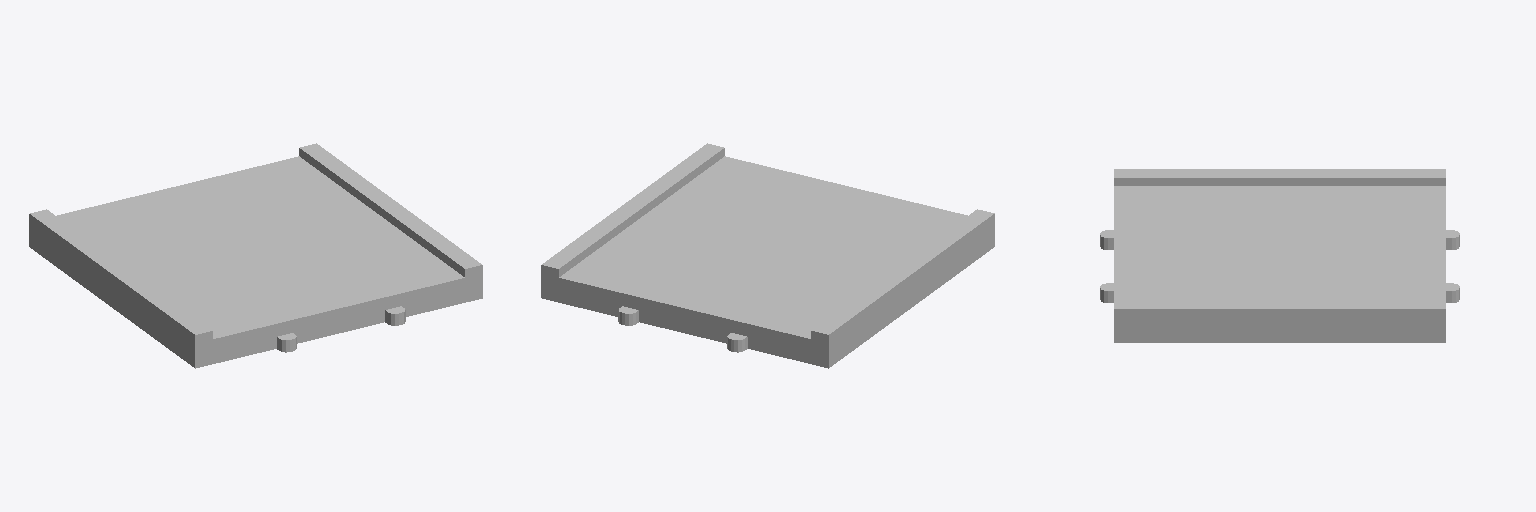
Rendered from Medium_base_Collider.obj.
3 renders of one model, left to right at view 1: azimuth 30°, elevation 25°; view 2: azimuth 150°, elevation 25°; view 3: azimuth 270°, elevation 25°, orthographic.
Parts seen in each view (by area): view 1: Cylinder.161_Cylinder.000, Cylinder.163_Cylinder.000; view 2: Cylinder.161_Cylinder.000, Cylinder.162_Cylinder.000; view 3: Cylinder.161_Cylinder.000, Cylinder.162_Cylinder.000, Cylinder.163_Cylinder.000.
Part boxes in pixels (x1,y1,x2,y2): Cylinder.161_Cylinder.000: (29, 143, 482, 368); Cylinder.163_Cylinder.000: (277, 306, 405, 352); Cylinder.161_Cylinder.000: (541, 143, 994, 368); Cylinder.162_Cylinder.000: (618, 306, 747, 352); Cylinder.161_Cylinder.000: (1114, 169, 1445, 342); Cylinder.162_Cylinder.000: (1446, 230, 1459, 302); Cylinder.163_Cylinder.000: (1100, 230, 1113, 302).
Bounding box in the file's own units: 3.49 × 0.3905 × 3.78.